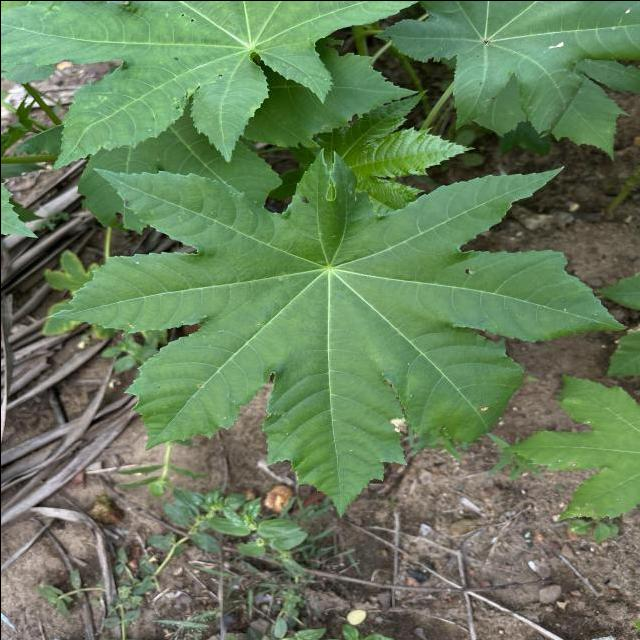Ricinus communis linn: (40, 128, 634, 522)
